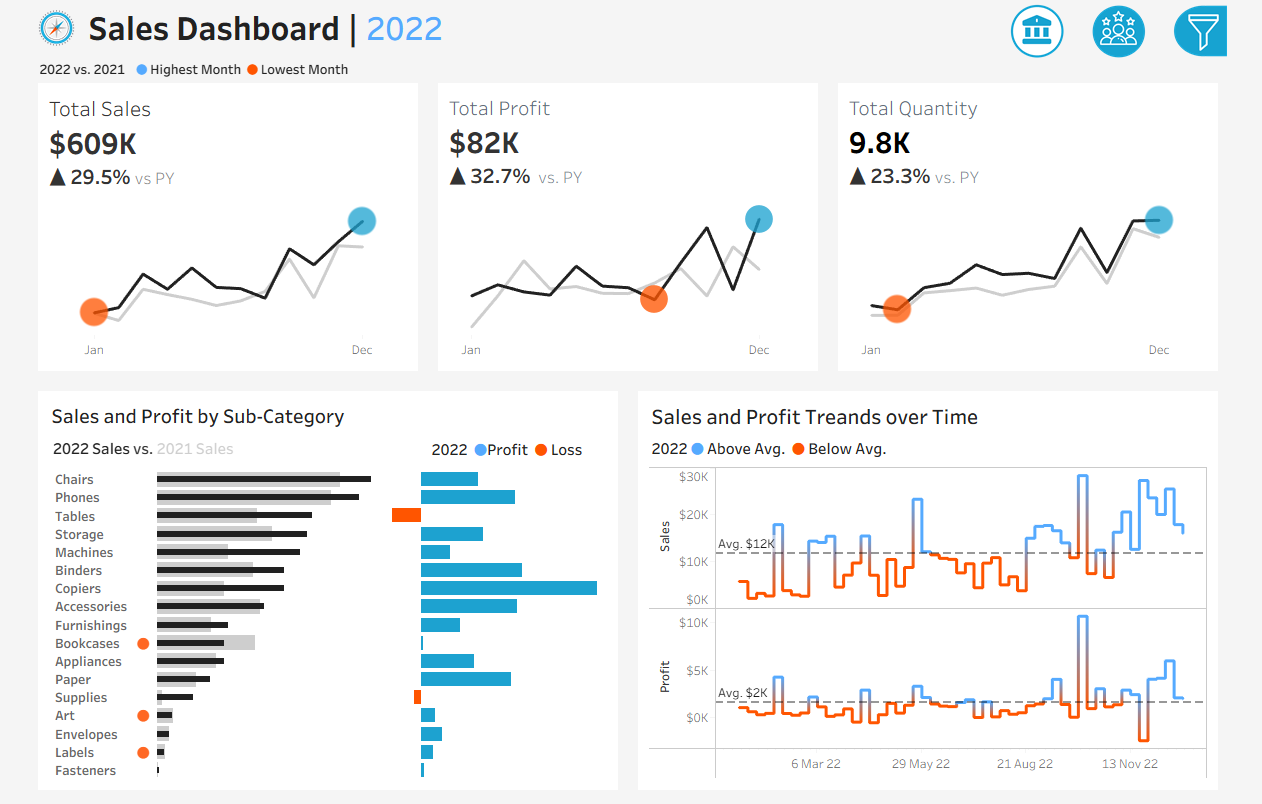

What the dashboard file says about the page in this screenshot:
{"tool":"tableau","page":{"name":"Sales Dashboard","canvas":[1200,800],"ordinal":1},"visuals":[{"type":"image","param":"Image/Icon - Logo.png","box":[2,0,52,55]},{"type":"text","box":[54,0,930,55]},{"type":"dashboard-object","box":[969,0,81,62]},{"type":"dashboard-object","box":[1050,0,81,62]},{"type":"blank","box":[978,5,215,80]},{"type":"worksheet","title":"Legend of KPI","mark":"Automatic","box":[0,55,1200,28]},{"type":"worksheet","title":"KPI Sales","mark":"Line","rows":["Calculation_0787825631051776"],"cols":["Order Date"],"box":[0,83,400,298]},{"type":"worksheet","title":"KPI Profit","mark":"Automatic","rows":["Calculation_0376338495287297"],"cols":["Order Date"],"box":[400,83,400,298]},{"type":"worksheet","title":"KPI Quantity","mark":"Automatic","rows":["Calculation_0591293386543109"],"cols":["Order Date"],"box":[800,83,400,298]},{"type":"text","box":[978,85,215,32]},{"type":"parameter","param":"[Parameters].[Parameter 1018997670502403]","box":[978,117,215,63]},{"type":"blank","box":[978,180,215,45]},{"type":"text","box":[978,225,215,29]},{"type":"filter","title":"KPI Sales","param":"[federated.0a49qa90tgosyq102g3m016yynfo].[none:Category:nk]","box":[978,254,215,52]},{"type":"filter","title":"KPI Sales","param":"[federated.0a49qa90tgosyq102g3m016yynfo].[none:Sub-Category:nk]","box":[978,306,215,52]},{"type":"blank","box":[978,358,215,42]},{"type":"text","box":[17,398,566,34]},{"type":"text","box":[617,398,566,36]},{"type":"text","box":[978,400,215,38]},{"type":"worksheet","title":"Legend of Sub-Category","mark":"Automatic","box":[17,432,380,34]},{"type":"text","box":[397,432,186,34]},{"type":"text","box":[617,434,566,29]},{"type":"filter","title":"KPI Sales","param":"[federated.0a49qa90tgosyq102g3m016yynfo].[none:Region:nk]","box":[978,438,215,52]},{"type":"worksheet","title":"Weekly Trends","mark":"Automatic","rows":["Calculation_1018997668982784","Calculation_0606411282939905"],"cols":["Order Date"],"box":[617,463,566,320]},{"type":"worksheet","title":"Category Comparison","mark":"Bar","rows":["Sub-Category","Calculation_0218833958481920"],"cols":["Calculation_1018997669982209","Calculation_1018997668982784","Calculation_0606411282939905"],"box":[17,466,566,316.9]},{"type":"filter","title":"KPI Sales","param":"[federated.0a49qa90tgosyq102g3m016yynfo].[none:State:nk]","box":[978,490,215,52]},{"type":"filter","title":"KPI Sales","param":"[federated.0a49qa90tgosyq102g3m016yynfo].[none:City:nk]","box":[978,542,215,52]}]}

Visuals, with their boxes on the page's 1200x800 design canvas (x1, y1, x2, y2). These are canvas units, not pixel positions in the 1262x804 screenshot, which may show the page scaled, cropped or inside an application window:
image: 2 0 54 55
text: 54 0 984 55
dashboard-object: 969 0 1050 62
dashboard-object: 1050 0 1131 62
blank: 978 5 1193 85
"Legend of KPI" worksheet: 0 55 1200 83
"KPI Sales" worksheet (Line marks): 0 83 400 381
"KPI Profit" worksheet: 400 83 800 381
"KPI Quantity" worksheet: 800 83 1200 381
text: 978 85 1193 117
parameter: 978 117 1193 180
blank: 978 180 1193 225
text: 978 225 1193 254
"KPI Sales" filter: 978 254 1193 306
"KPI Sales" filter: 978 306 1193 358
blank: 978 358 1193 400
text: 17 398 583 432
text: 617 398 1183 434
text: 978 400 1193 438
"Legend of Sub-Category" worksheet: 17 432 397 466
text: 397 432 583 466
text: 617 434 1183 463
"KPI Sales" filter: 978 438 1193 490
"Weekly Trends" worksheet: 617 463 1183 783
"Category Comparison" worksheet (Bar marks): 17 466 583 783
"KPI Sales" filter: 978 490 1193 542
"KPI Sales" filter: 978 542 1193 594
